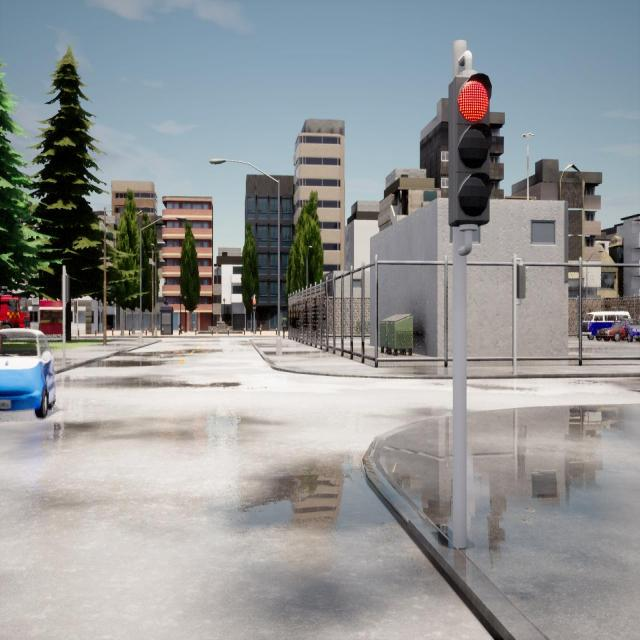Pedestrian: (282, 314, 288, 338)
Vehicle: (0, 328, 55, 418), (582, 311, 630, 339), (0, 293, 30, 328), (596, 322, 626, 340), (623, 319, 640, 341)
traffic_light: (448, 78, 492, 223), (517, 265, 525, 299), (64, 274, 70, 302), (253, 300, 256, 310)
